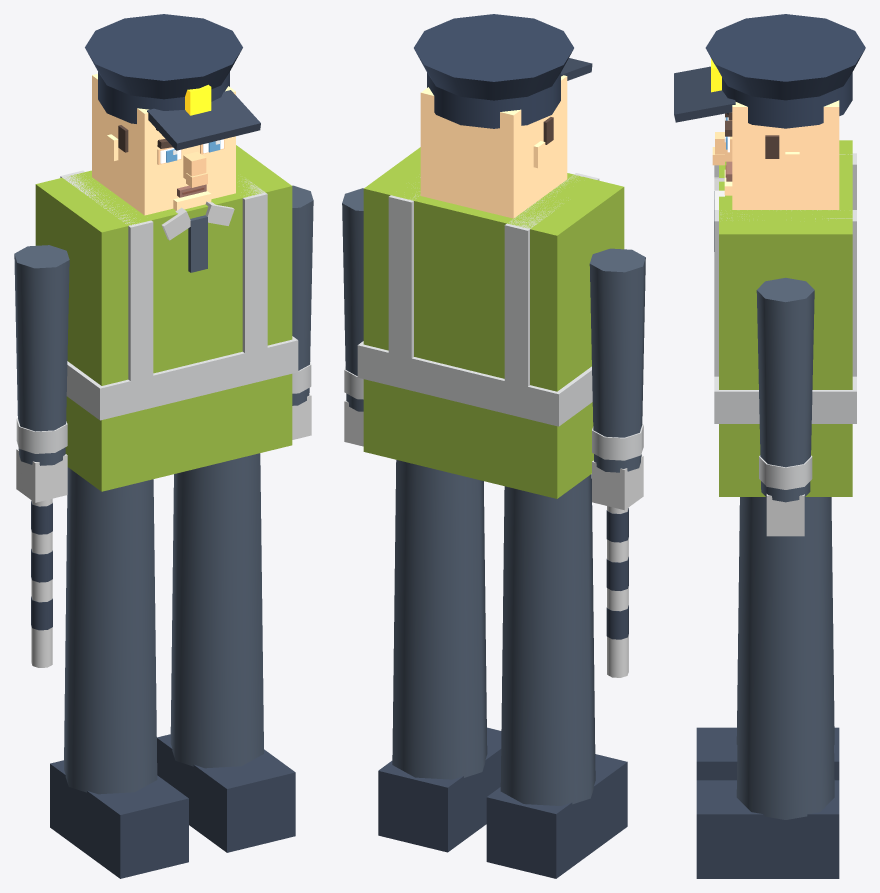
Rendered from actor_1.glb.
3 views of the same model, side by side, from view 1: azimuth 30°, elevation 25°; view 2: azimuth 150°, elevation 25°; view 3: azimuth 270°, elevation 25° (orthographic).
Visible parts, largest first — view 1: ticket_12_13_regulator:c1e293b, ticket_12_13_regulator:c84cc16, ticket_12_13_regulator:c111827, ticket_12_13_regulator:cf1f5f9, ticket_12_13_regulator:c0f172a, ticket_12_13_regulator:ce2a76f, ticket_12_13_regulator:cffffff, ticket_12_13_regulator:cc88652, ticket_12_13_regulator:cf59e0b; view 2: ticket_12_13_regulator:c1e293b, ticket_12_13_regulator:c84cc16, ticket_12_13_regulator:c111827, ticket_12_13_regulator:cf1f5f9, ticket_12_13_regulator:c0f172a, ticket_12_13_regulator:ce2a76f, ticket_12_13_regulator:cffffff; view 3: ticket_12_13_regulator:c1e293b, ticket_12_13_regulator:c84cc16, ticket_12_13_regulator:c111827, ticket_12_13_regulator:c0f172a, ticket_12_13_regulator:ce2a76f, ticket_12_13_regulator:cf1f5f9, ticket_12_13_regulator:cffffff, ticket_12_13_regulator:c2e1b14, ticket_12_13_regulator:cc88652.
Boxes of the visible parts, x1=… form: ticket_12_13_regulator:c1e293b: x1=14, y1=185, x2=313, y2=794; ticket_12_13_regulator:c84cc16: x1=35, y1=145, x2=292, y2=491; ticket_12_13_regulator:c111827: x1=31, y1=90, x2=295, y2=878; ticket_12_13_regulator:cf1f5f9: x1=16, y1=170, x2=311, y2=453; ticket_12_13_regulator:c0f172a: x1=85, y1=14, x2=242, y2=123; ticket_12_13_regulator:ce2a76f: x1=92, y1=74, x2=235, y2=215; ticket_12_13_regulator:cffffff: x1=16, y1=201, x2=311, y2=667; ticket_12_13_regulator:cc88652: x1=157, y1=139, x2=224, y2=187; ticket_12_13_regulator:cf59e0b: x1=185, y1=84, x2=211, y2=115; ticket_12_13_regulator:c1e293b: x1=342, y1=188, x2=645, y2=805; ticket_12_13_regulator:c84cc16: x1=363, y1=147, x2=624, y2=498; ticket_12_13_regulator:c111827: x1=378, y1=58, x2=628, y2=878; ticket_12_13_regulator:cf1f5f9: x1=344, y1=173, x2=643, y2=460; ticket_12_13_regulator:c0f172a: x1=414, y1=14, x2=573, y2=128; ticket_12_13_regulator:ce2a76f: x1=420, y1=75, x2=567, y2=218; ticket_12_13_regulator:cffffff: x1=344, y1=400, x2=643, y2=677; ticket_12_13_regulator:c1e293b: x1=714, y1=191, x2=834, y2=819; ticket_12_13_regulator:c84cc16: x1=719, y1=140, x2=852, y2=496; ticket_12_13_regulator:c111827: x1=674, y1=66, x2=839, y2=878; ticket_12_13_regulator:c0f172a: x1=705, y1=14, x2=865, y2=128; ticket_12_13_regulator:ce2a76f: x1=724, y1=100, x2=839, y2=209; ticket_12_13_regulator:cf1f5f9: x1=714, y1=153, x2=856, y2=489; ticket_12_13_regulator:cffffff: x1=714, y1=177, x2=804, y2=536; ticket_12_13_regulator:c2e1b14: x1=725, y1=112, x2=779, y2=158; ticket_12_13_regulator:cc88652: x1=712, y1=120, x2=732, y2=165.
Size of the model in its own units: 0.77 by 1.95 by 0.4306.
